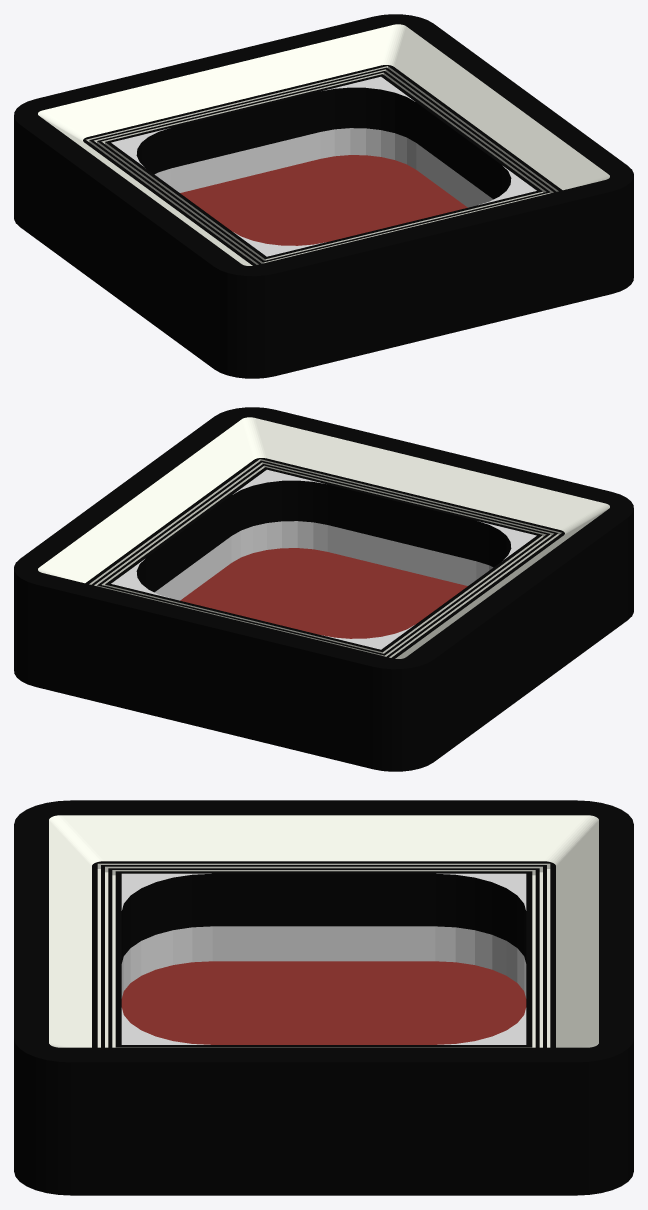
Rendered from DicePlate.fbx.
3 renders of one model, top to bottom at view 1: azimuth 30°, elevation 25°; view 2: azimuth 150°, elevation 25°; view 3: azimuth 270°, elevation 25°, orthographic. The views are drawn at different scales.
Visible parts, largest first — view 1: 평면.001; view 2: 평면.001; view 3: 평면.001.
Part boxes in pixels (x1,y1,x2,y2): 평면.001: [14, 14, 633, 378]; 평면.001: [14, 407, 633, 771]; 평면.001: [14, 800, 633, 1195].
Size of the model in its own units: 267 by 63.27 by 267.
